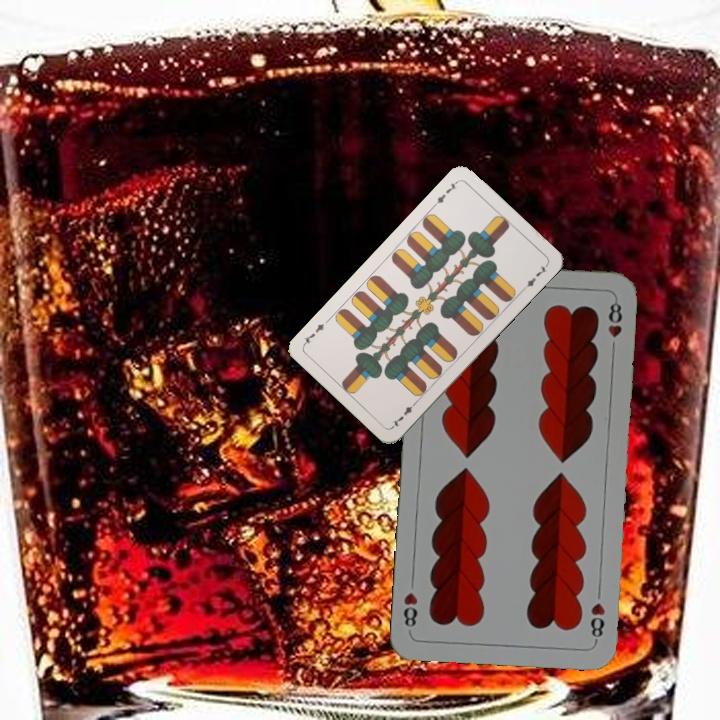E7: (388, 397, 420, 430), (429, 177, 460, 210)
H8: (586, 598, 608, 645)
